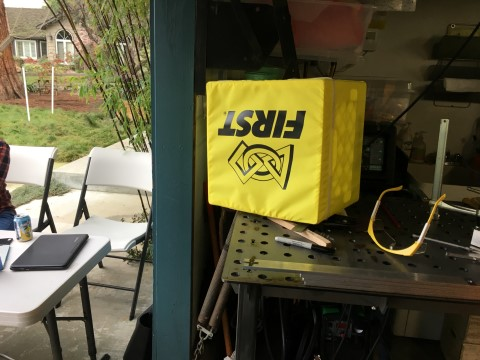cube: (205, 76, 367, 225)
